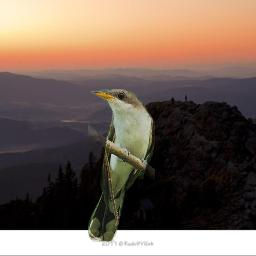Cuckoo: (88, 89, 155, 242)
